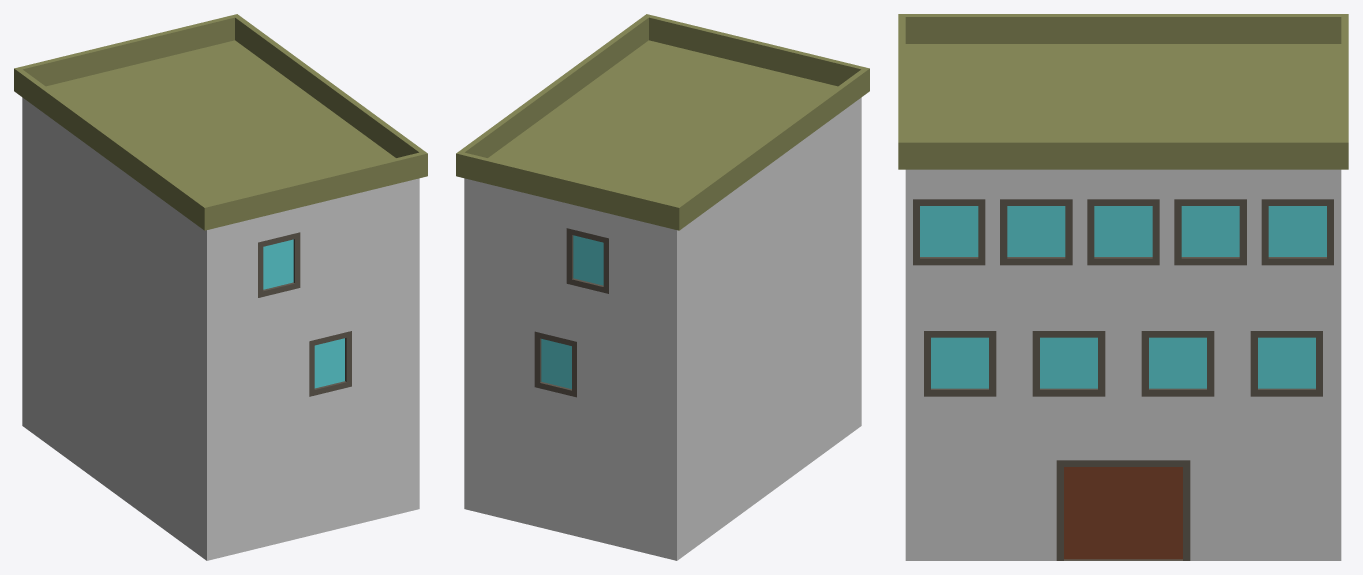
File: random res build 1.fbx
3 views of the same model, side by side, from view 1: azimuth 30°, elevation 25°; view 2: azimuth 150°, elevation 25°; view 3: azimuth 270°, elevation 25° (orthographic). The views are drawn at different scales.
Visible parts, largest first — view 1: building_001; view 2: building_001; view 3: building_001.
Part boxes in pixels (x1,y1,x2,y2): building_001: (14, 14, 427, 560); building_001: (456, 14, 869, 560); building_001: (898, 14, 1348, 560).
Bounding box in the file's own units: 2086 × 3184 × 3084.
